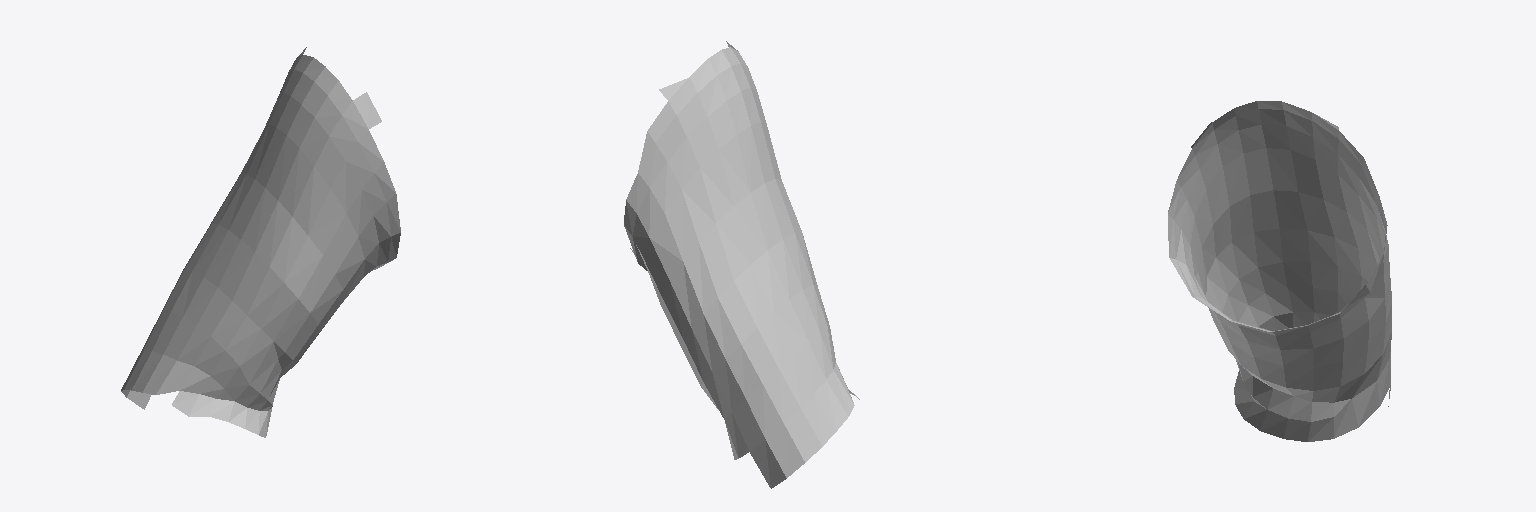
The model's file is hombro_der.obj.
3 renders of one model, left to right at view 1: azimuth 30°, elevation 25°; view 2: azimuth 150°, elevation 25°; view 3: azimuth 270°, elevation 25°, orthographic.
Visible parts, largest first — view 1: node_id803.002; view 2: node_id803.002; view 3: node_id803.002.
Boxes of the visible parts, x1=… form: node_id803.002: x1=121, y1=47, x2=400, y2=437; node_id803.002: x1=624, y1=41, x2=859, y2=488; node_id803.002: x1=1168, y1=101, x2=1391, y2=441.
Bounding box in the file's own units: 0.1623 × 0.2927 × 0.1625.